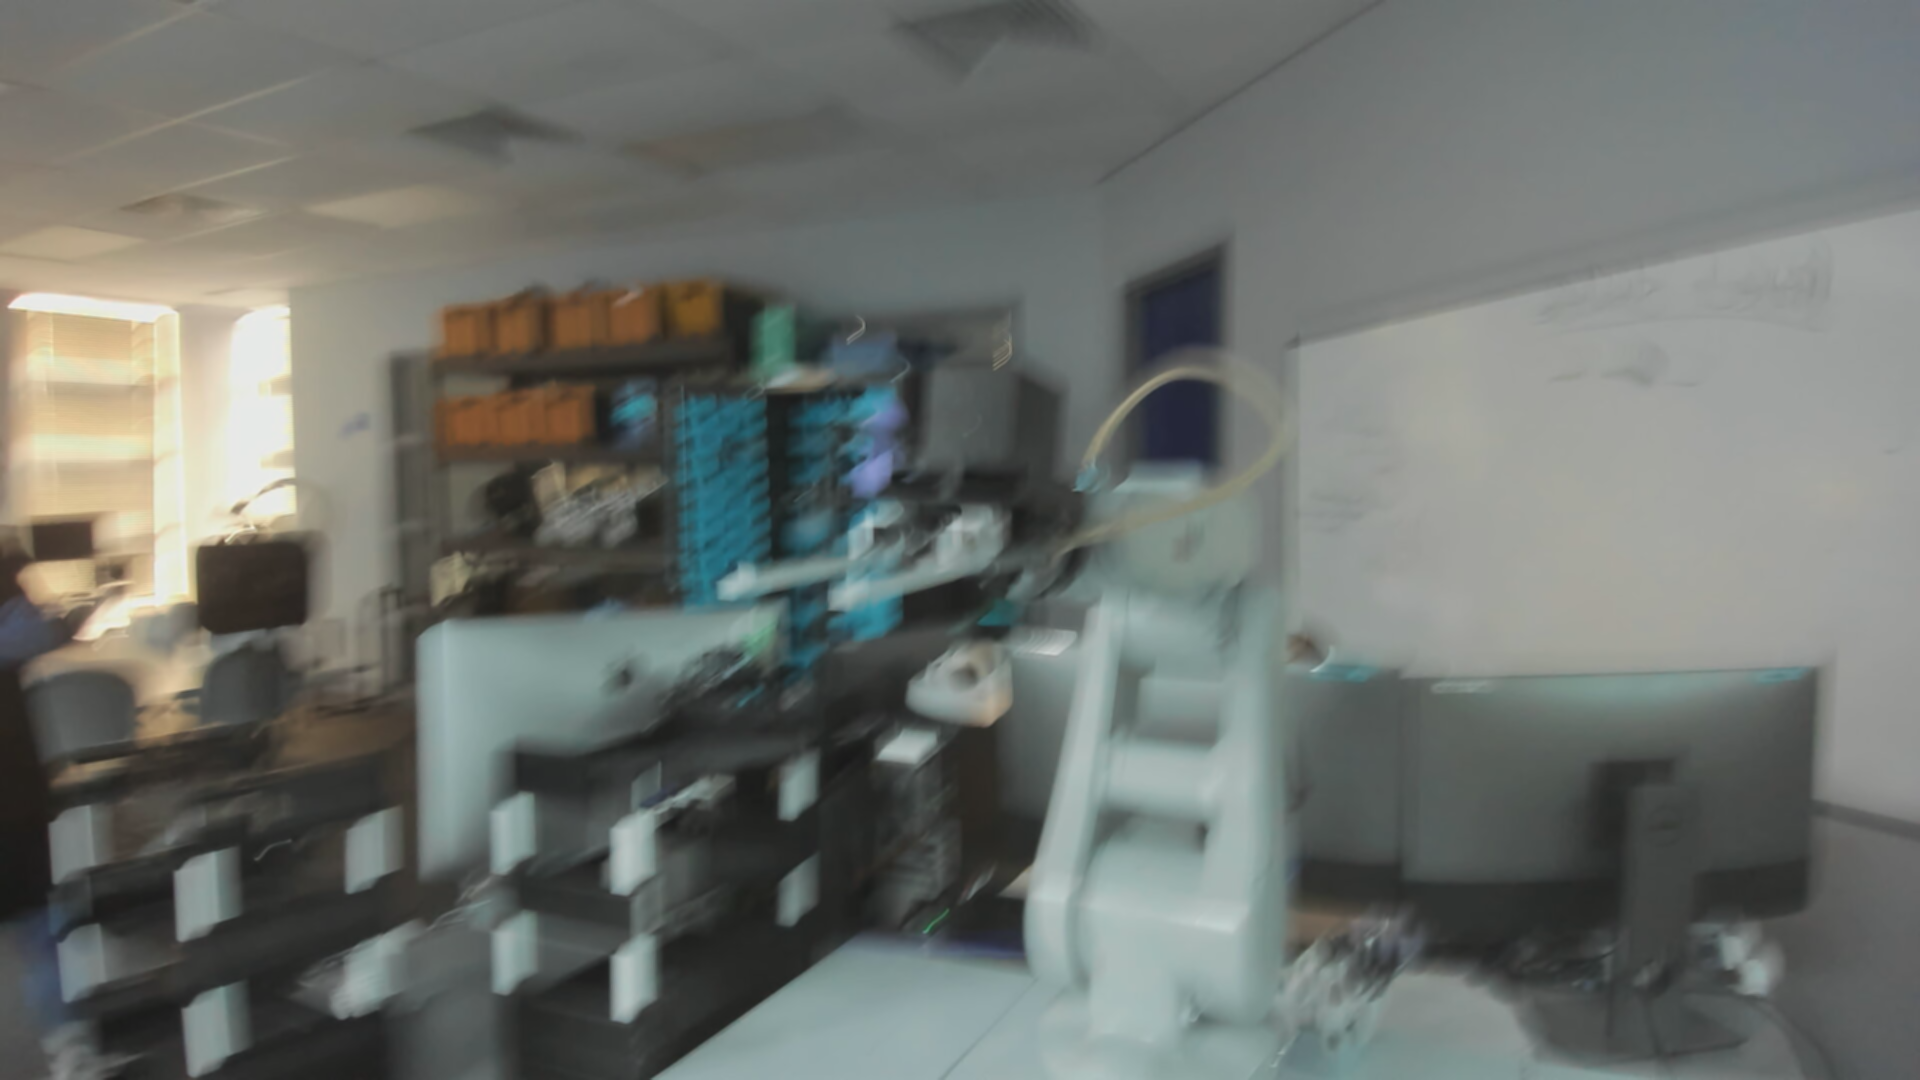black pallet: (905, 343, 1069, 512)
